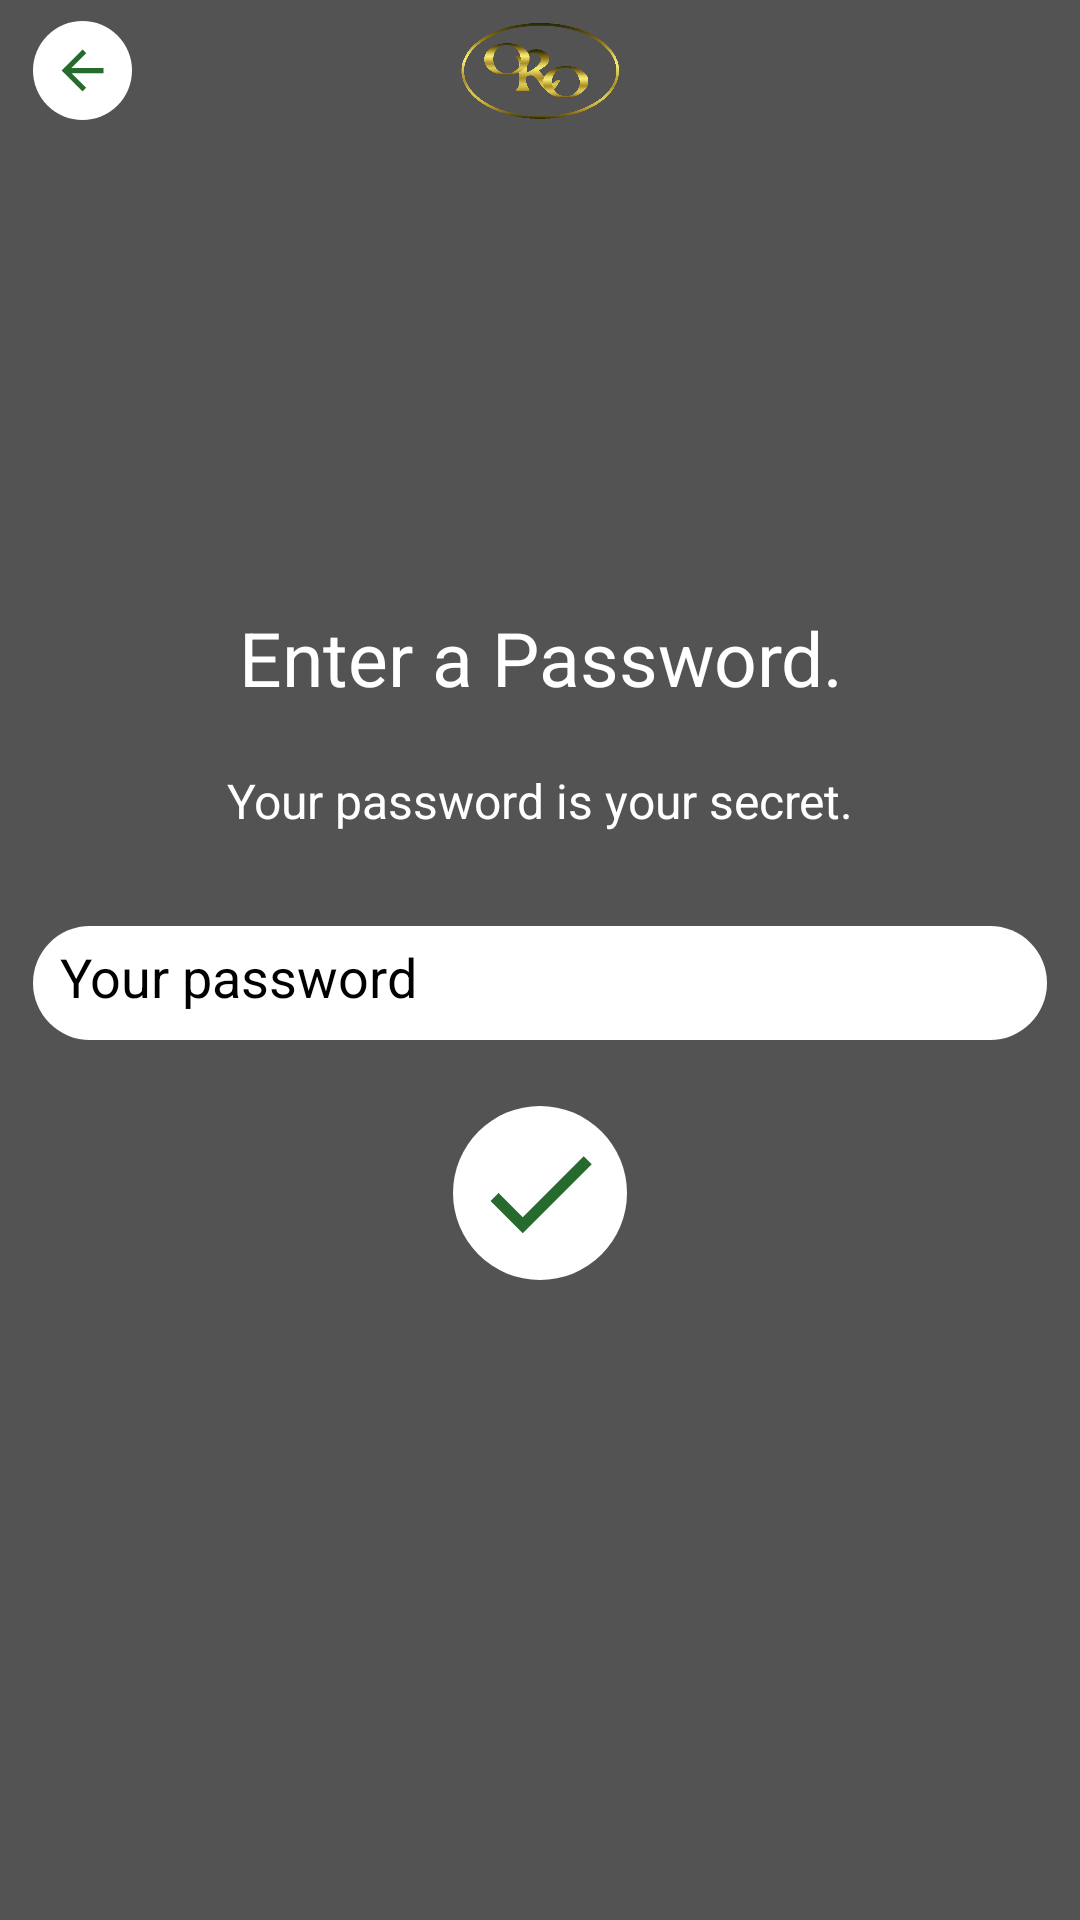

Locate icon controls on the screen. Image size 1080w x 1920h, boxes as bbox=[x1, y1, x2, y2].
arrow back: bbox=[33, 21, 132, 120]
done: bbox=[453, 1106, 627, 1280]
